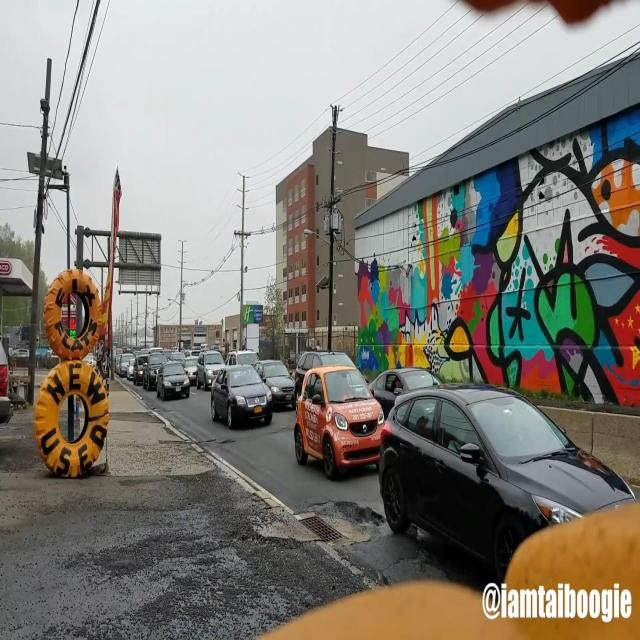pothole: (306, 498, 387, 529)
